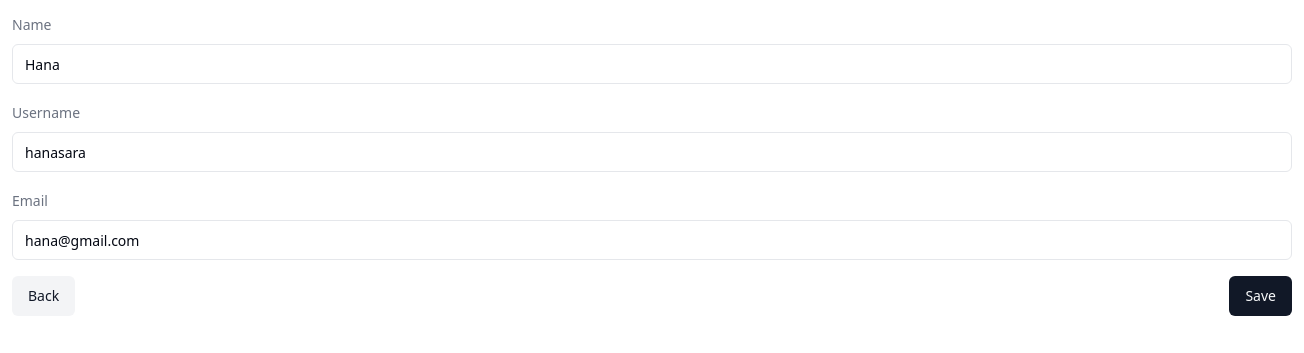
Scenario: Form Edit User › should display matching error when email is invalid
The image size is (1304, 353).
Replace the text in the 1st field with placeholder "Enter name" with "name" at (652, 64), box [12, 44, 1292, 84]
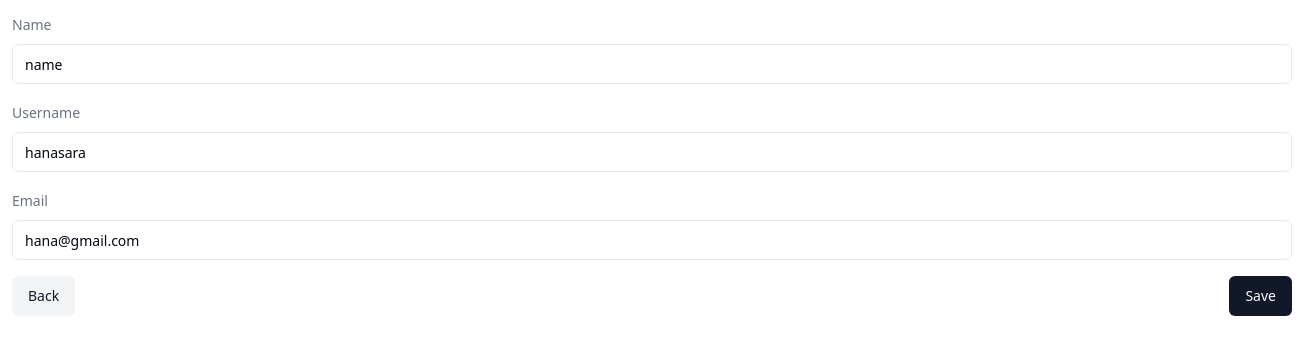
Replace the text in the field with placeholder "Enter username" below "Username" with "username" at (652, 152), box [12, 132, 1292, 172]
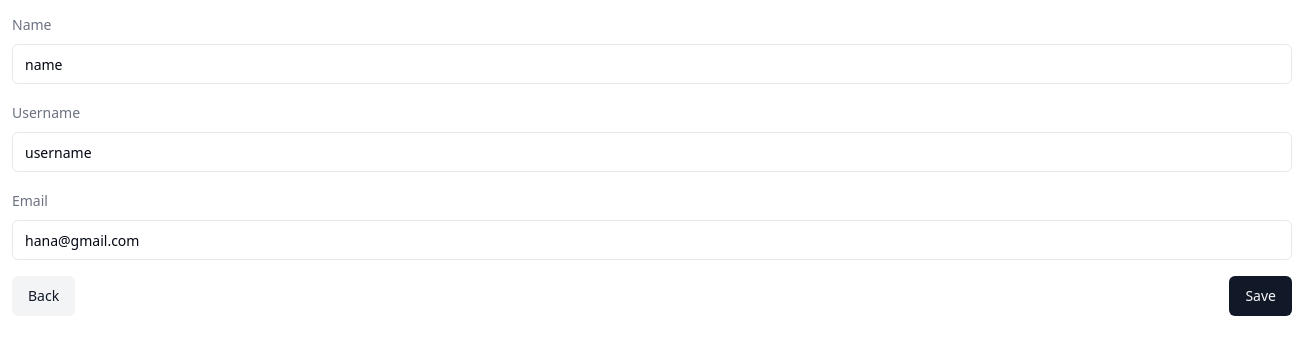
Replace the text in the field with placeholder "Enter email address" below "Email" with "test" at (652, 240), box [12, 220, 1292, 260]
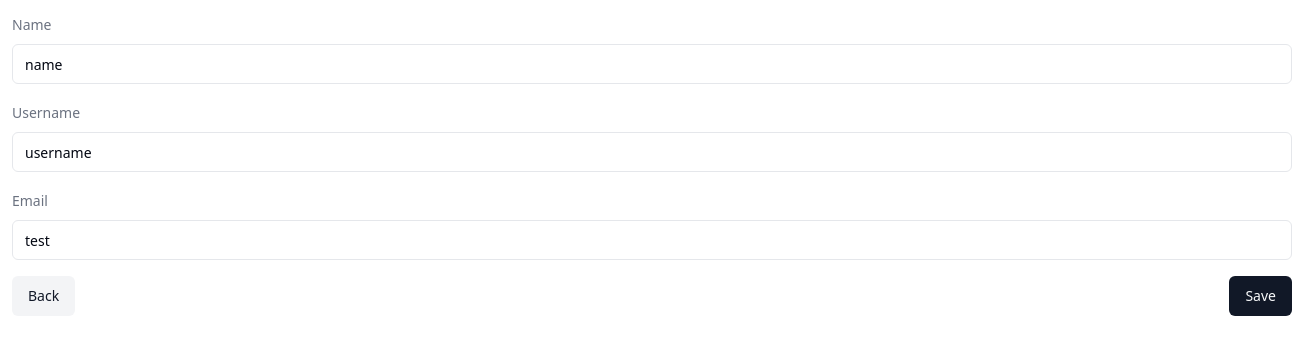
Submit the form from the button "Save", box [1229, 276, 1292, 316]
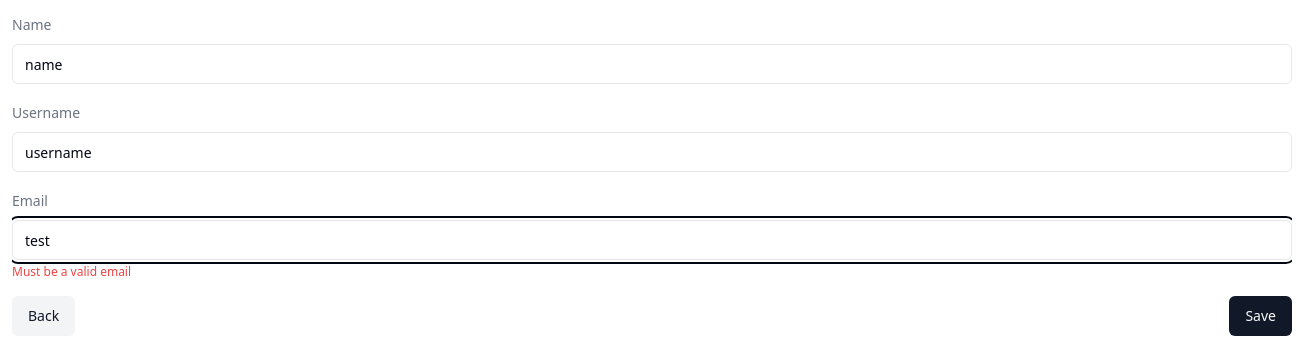
Now the number of messages is 1, box [12, 263, 131, 280]
